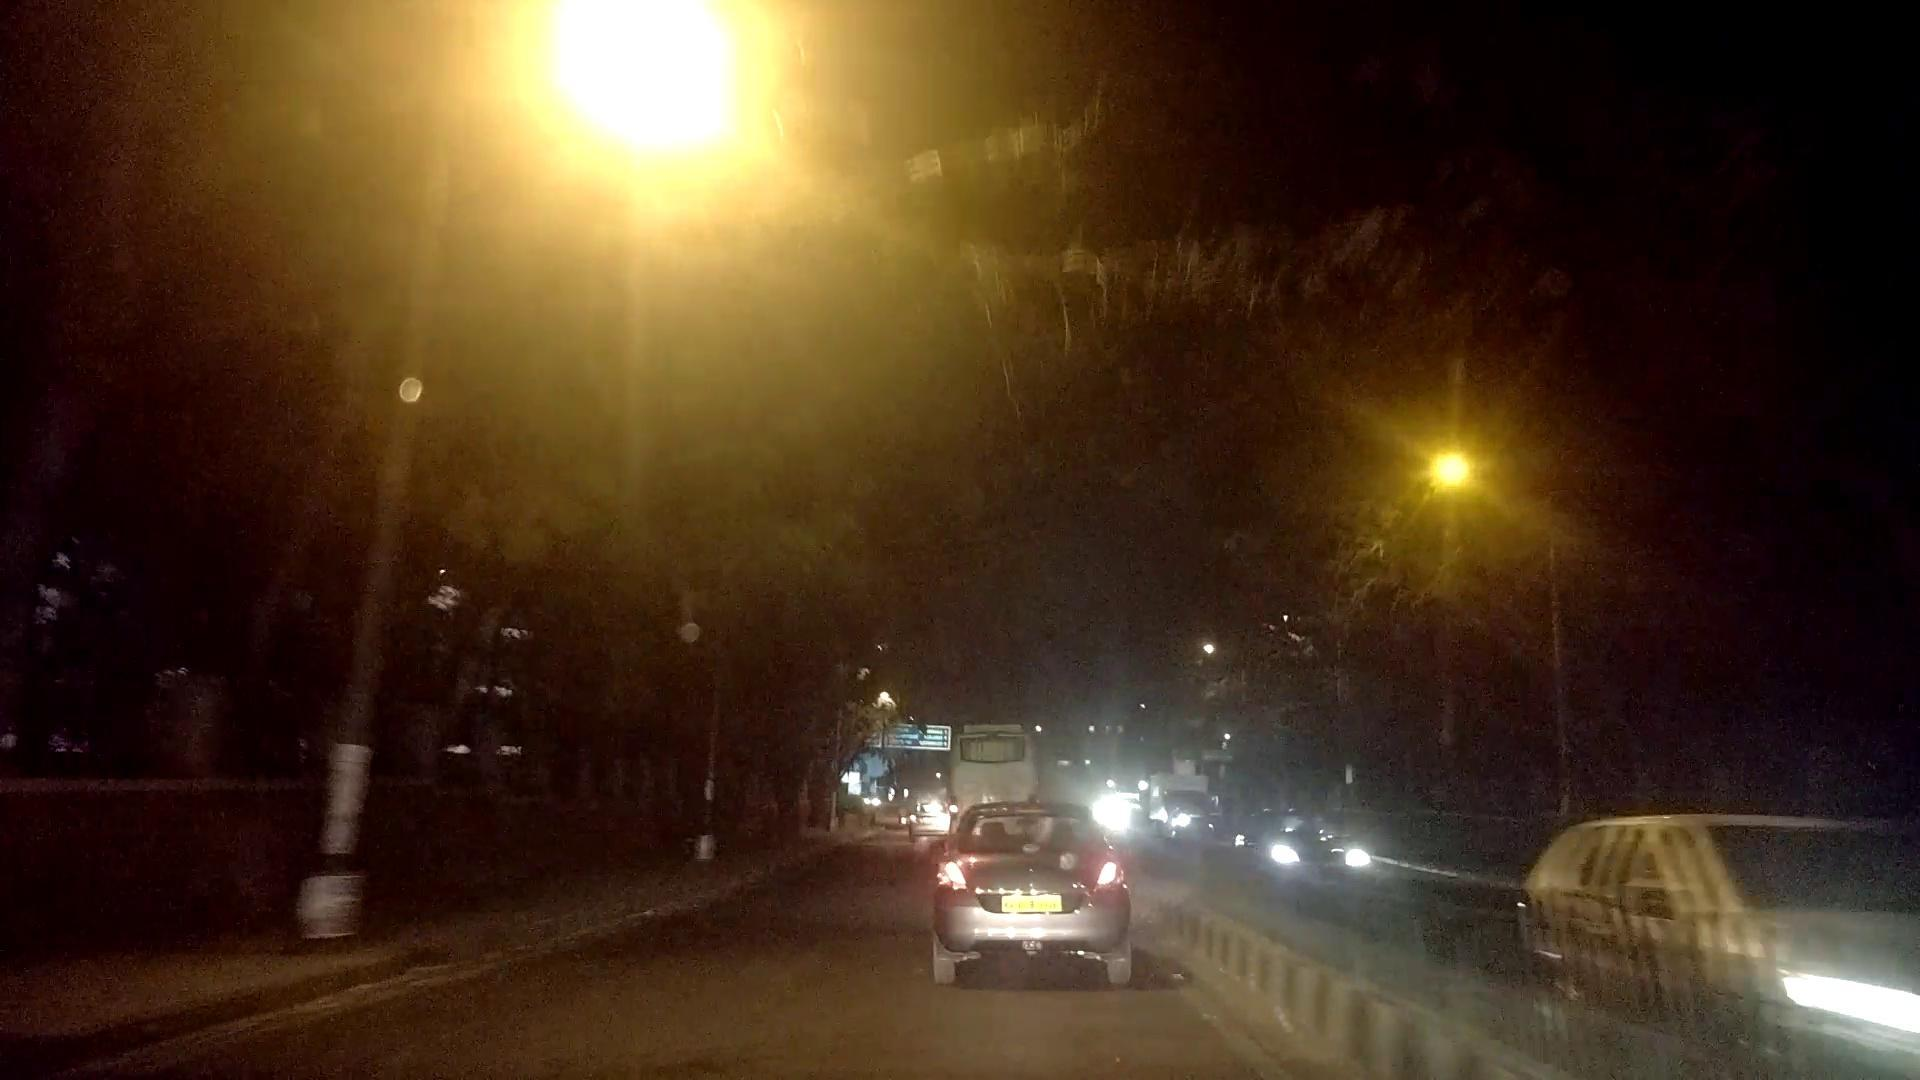on: (1200, 232, 1742, 626), (430, 0, 982, 363)
